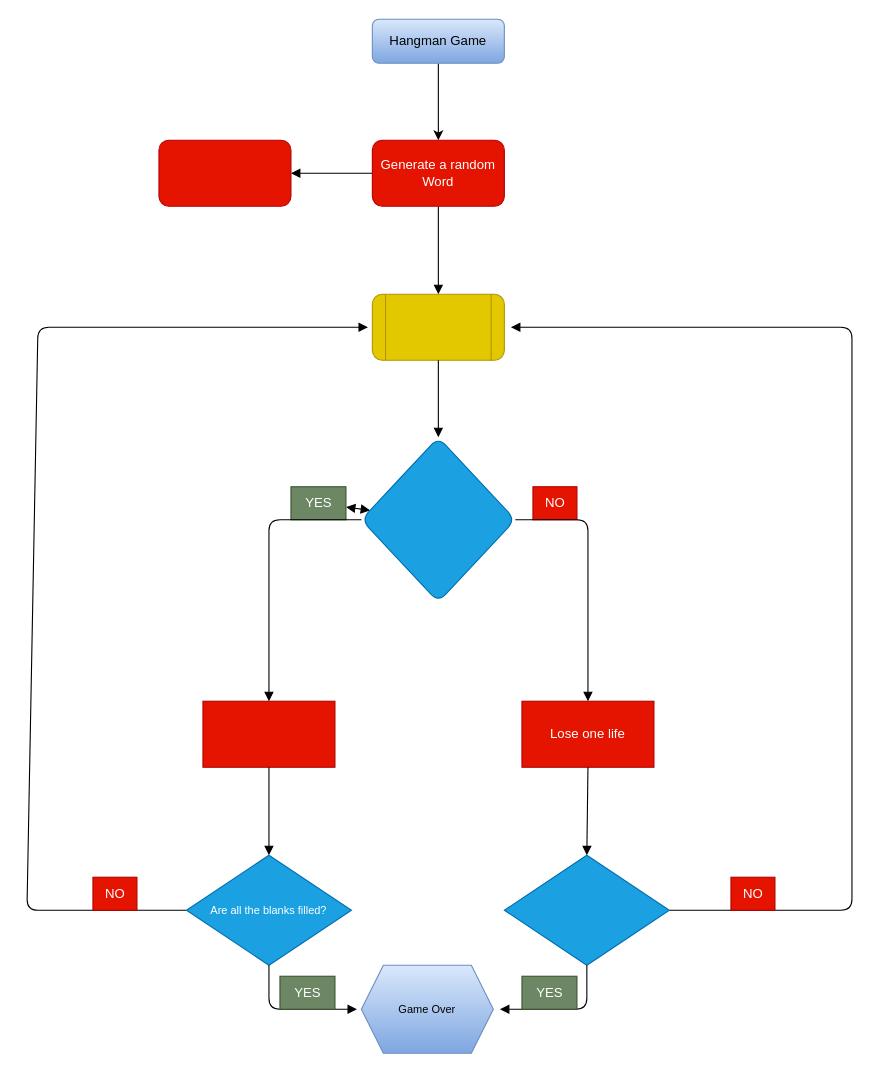
The diagram is 880 pixels wide and 1073 high, and some of its shapes have lost their labels. Here are the shapes that lost their labels. From the top down, the box of each, then its label:
(158, 139, 291, 206): Generate as many blank letters as the word
(371, 293, 504, 360): Ask the User to guess the letter
(360, 436, 515, 602): Is the guessed letter in the word?
(202, 700, 335, 767): Replace the blank for the corresponding letter
(503, 854, 669, 965): Have the user run out of lifes?
